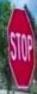Stop-Sign: (7, 7, 35, 90)
